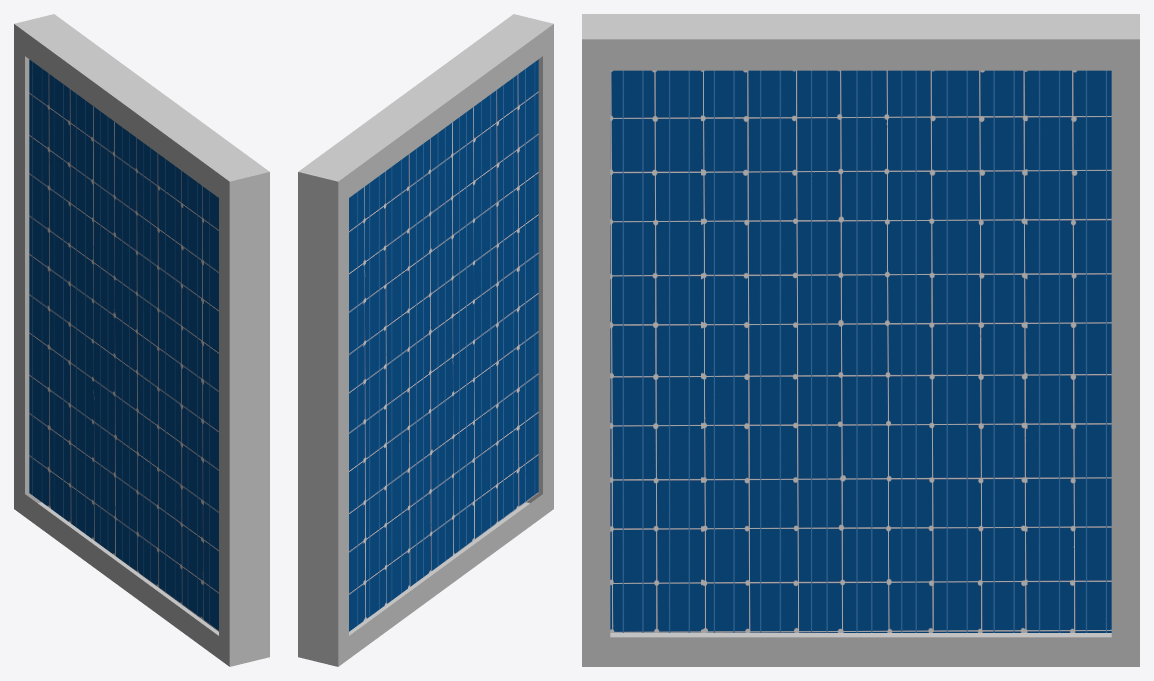
The model's file is SolarPanel.fbx.
The picture shows the model from 3 angles, left to right: view 1: azimuth 30°, elevation 25°; view 2: azimuth 150°, elevation 25°; view 3: azimuth 270°, elevation 25°; orthographic projection. The views are drawn at different scales.
Visible parts, largest first — view 1: PainelSolarItem; view 2: PainelSolarItem; view 3: PainelSolarItem.
Part boxes in pixels (x1,y1,x2,y2): PainelSolarItem: (14, 14, 269, 666); PainelSolarItem: (298, 14, 553, 666); PainelSolarItem: (582, 14, 1139, 666).
Size of the model in its own units: 21.27 by 245 by 198.
Materials: 2 (1 with a texture image).
